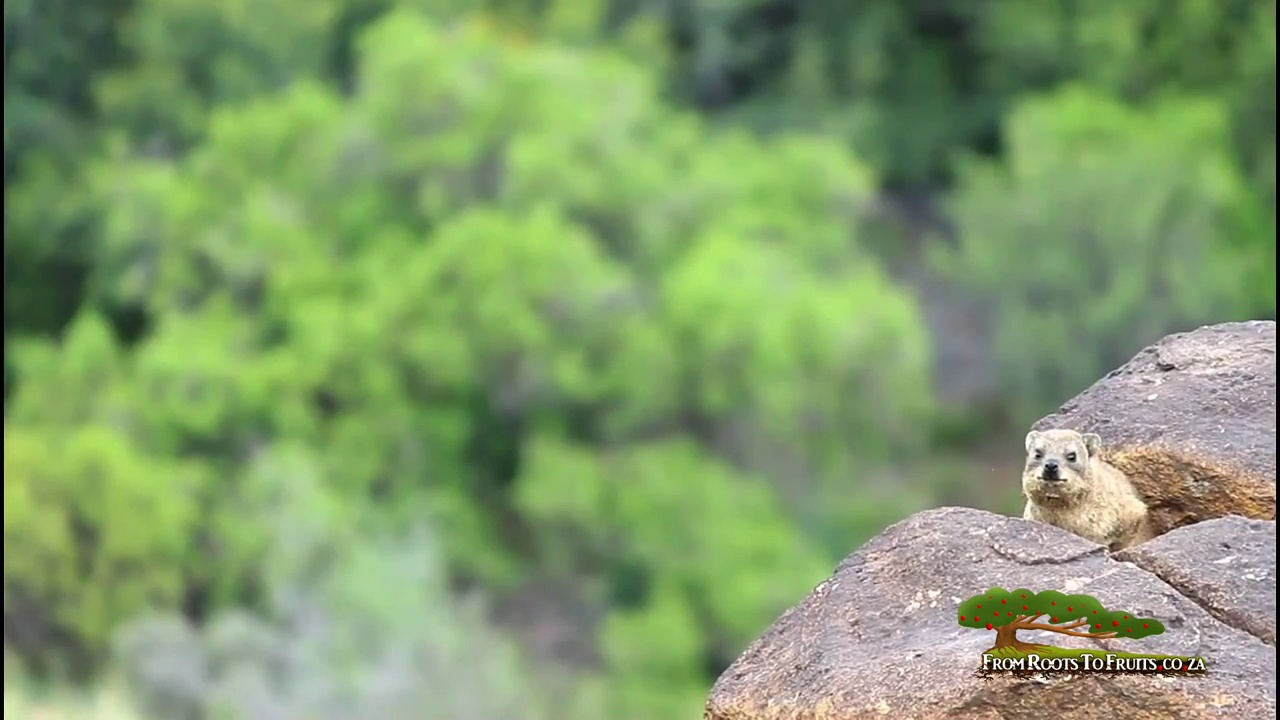Rock Hyrex: (1023, 424, 1160, 560)
